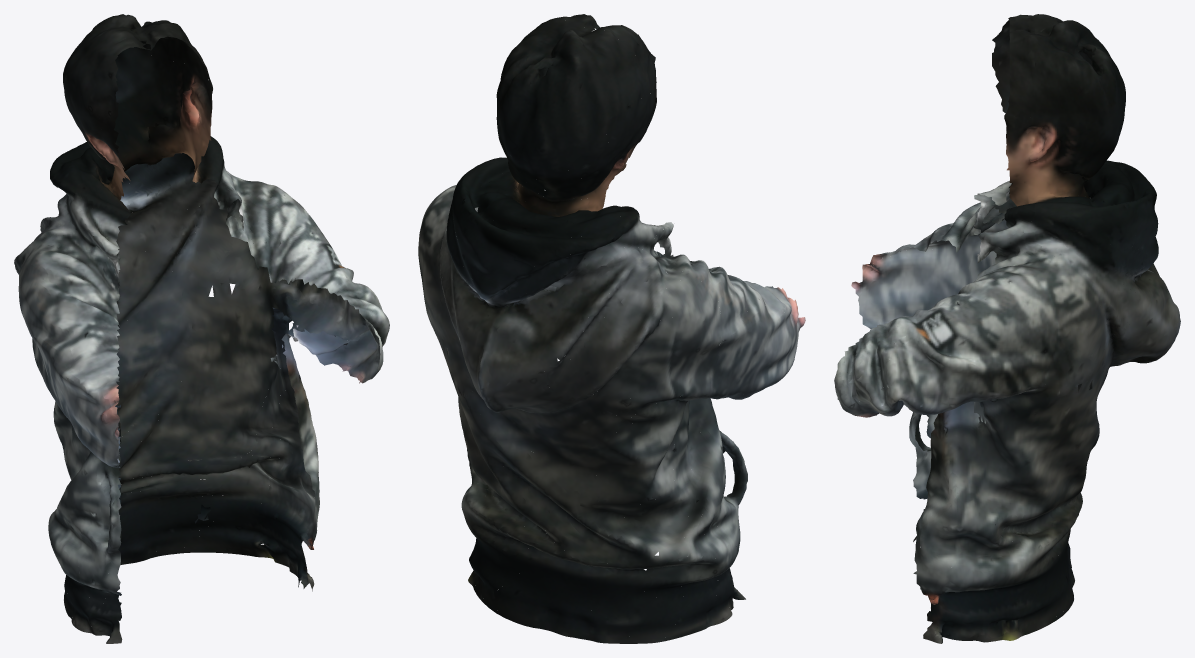
The model's file is Player@Stay.fbx.
3 renders of one model, left to right at view 1: azimuth 30°, elevation 25°; view 2: azimuth 150°, elevation 25°; view 3: azimuth 270°, elevation 25°, orthographic. The views are drawn at different scales.
Parts seen in each view (by area): view 1: Model; view 2: Model; view 3: Model.
Part boxes in pixels (box(x1,y1,x2,y2)): Model: box(14, 14, 389, 643); Model: box(418, 14, 805, 643); Model: box(834, 14, 1180, 643).
Bounding box in the file's own units: 47.75 × 83.48 × 46.93.
